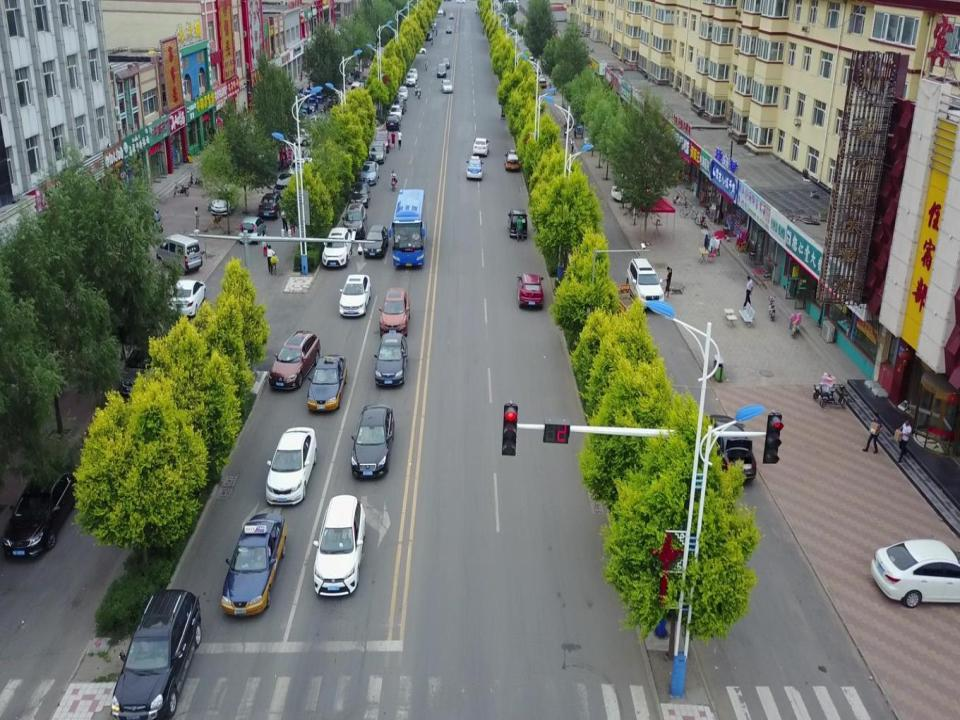car: (110, 588, 202, 720), (1, 463, 82, 559), (220, 513, 288, 617), (871, 538, 960, 609), (313, 494, 366, 598), (264, 426, 317, 506), (704, 414, 756, 483), (350, 403, 395, 479), (269, 330, 320, 390), (119, 337, 162, 396), (307, 353, 347, 412), (626, 258, 664, 310), (373, 332, 408, 387), (378, 287, 410, 338), (166, 279, 206, 318), (339, 274, 371, 317), (321, 227, 353, 267), (516, 273, 544, 310), (341, 202, 367, 240), (211, 183, 239, 216), (363, 225, 389, 258), (238, 216, 266, 244), (610, 179, 644, 202), (258, 192, 286, 218), (508, 206, 528, 239), (284, 127, 316, 147), (272, 172, 296, 198), (350, 181, 370, 209), (358, 161, 380, 186), (301, 114, 331, 132), (373, 128, 391, 153), (466, 155, 484, 180), (368, 141, 387, 164), (472, 138, 490, 158), (504, 149, 520, 170), (385, 114, 401, 131), (392, 99, 408, 114), (389, 104, 402, 122), (409, 43, 427, 55), (440, 78, 453, 94), (435, 63, 447, 78), (397, 86, 408, 102), (404, 72, 416, 86), (407, 68, 418, 82), (390, 130, 396, 149), (538, 74, 546, 88), (398, 130, 403, 150), (442, 58, 450, 70), (444, 25, 452, 34), (429, 21, 437, 28), (426, 33, 432, 41), (449, 12, 454, 20), (529, 53, 534, 61), (437, 8, 443, 14)
van: (155, 233, 203, 276)
